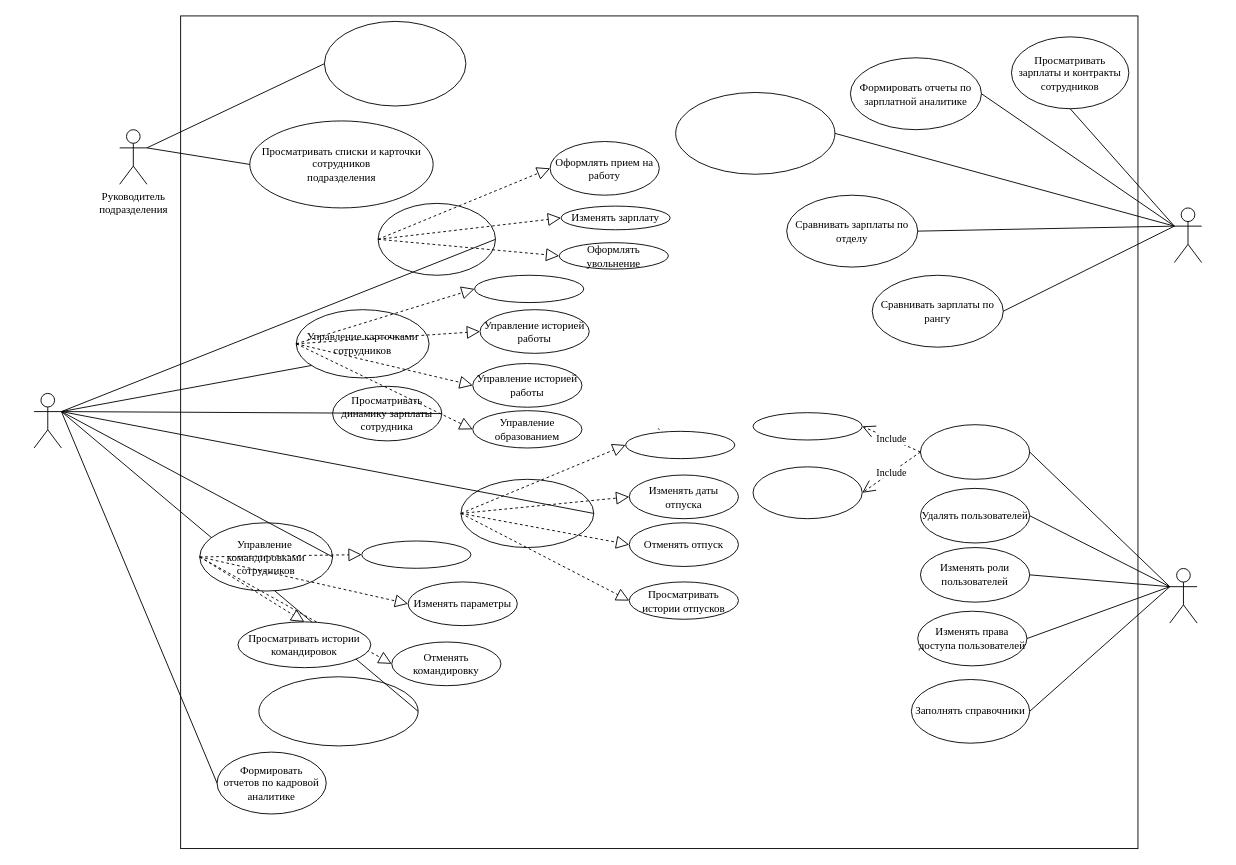
This 1236x865 diagram has some shape labels left out. The centre of each missing label's shape, as x and y in pixels:
"HR-менеджер" belongs at (x=47, y=420).
"Администратор" belongs at (x=1183, y=595).
"Бухгатерия" belongs at (x=1187, y=235).
"Добавлять новых пользователей" belongs at (x=975, y=451).
"Назначать командировку" belongs at (x=416, y=554).
"Назначать отпуск" belongs at (x=680, y=444).
"Назначать права доступа" belongs at (x=807, y=492).
"Назначать роль" belongs at (x=807, y=426).
"Управление контрактами" belongs at (x=436, y=238).
"Управление навыками" belongs at (x=529, y=288).
"Управление отпусками сотрудников" belongs at (x=527, y=513).
"Фиксировать прохождение сотрудником курсов повышения квалификации" belongs at (x=338, y=711).
"Формировать отчетов по аналитке персонала в отделе" belongs at (x=395, y=63).
"Экспортировать доступные данные в системы бухгалтерского учета" belongs at (x=755, y=133).
